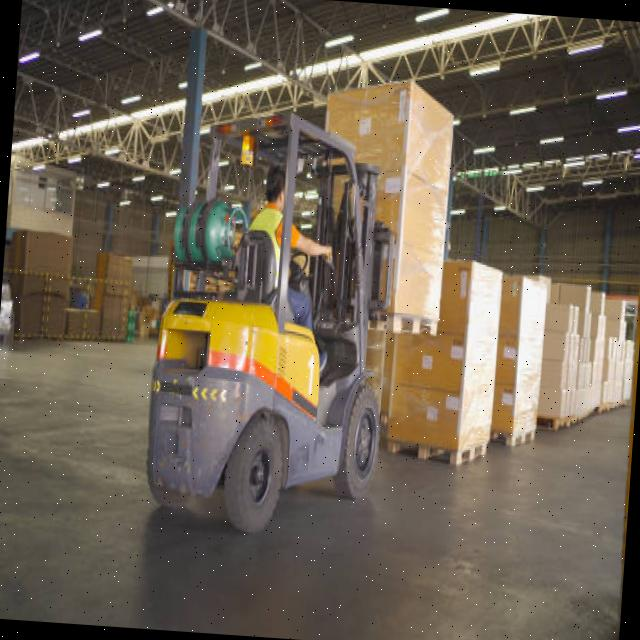Wooden-Pallets: (374, 433, 491, 476), (502, 421, 539, 454)
